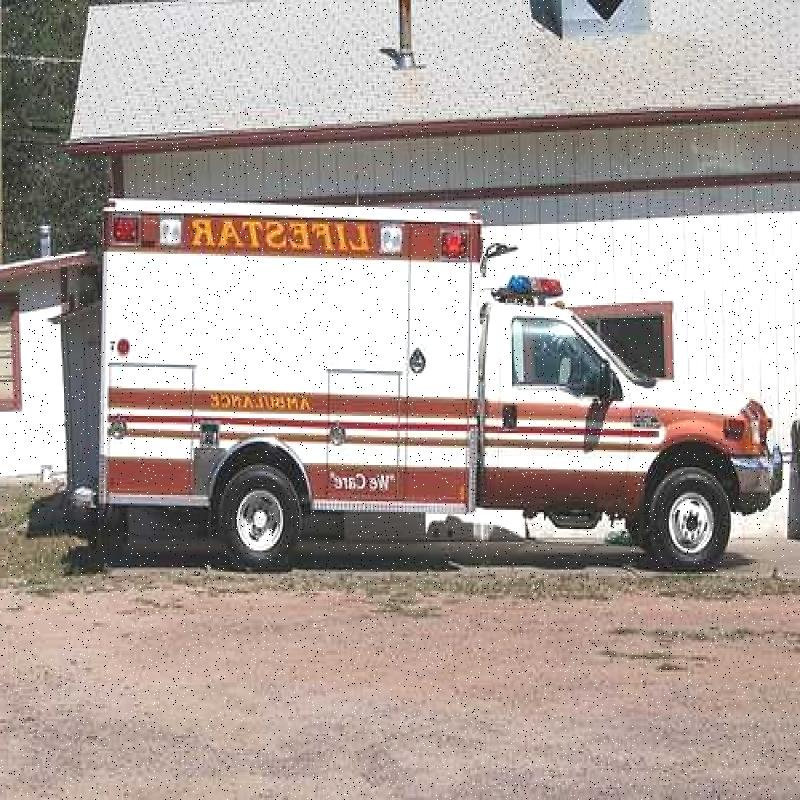AmbulanceSiren: (483, 244, 596, 326)
